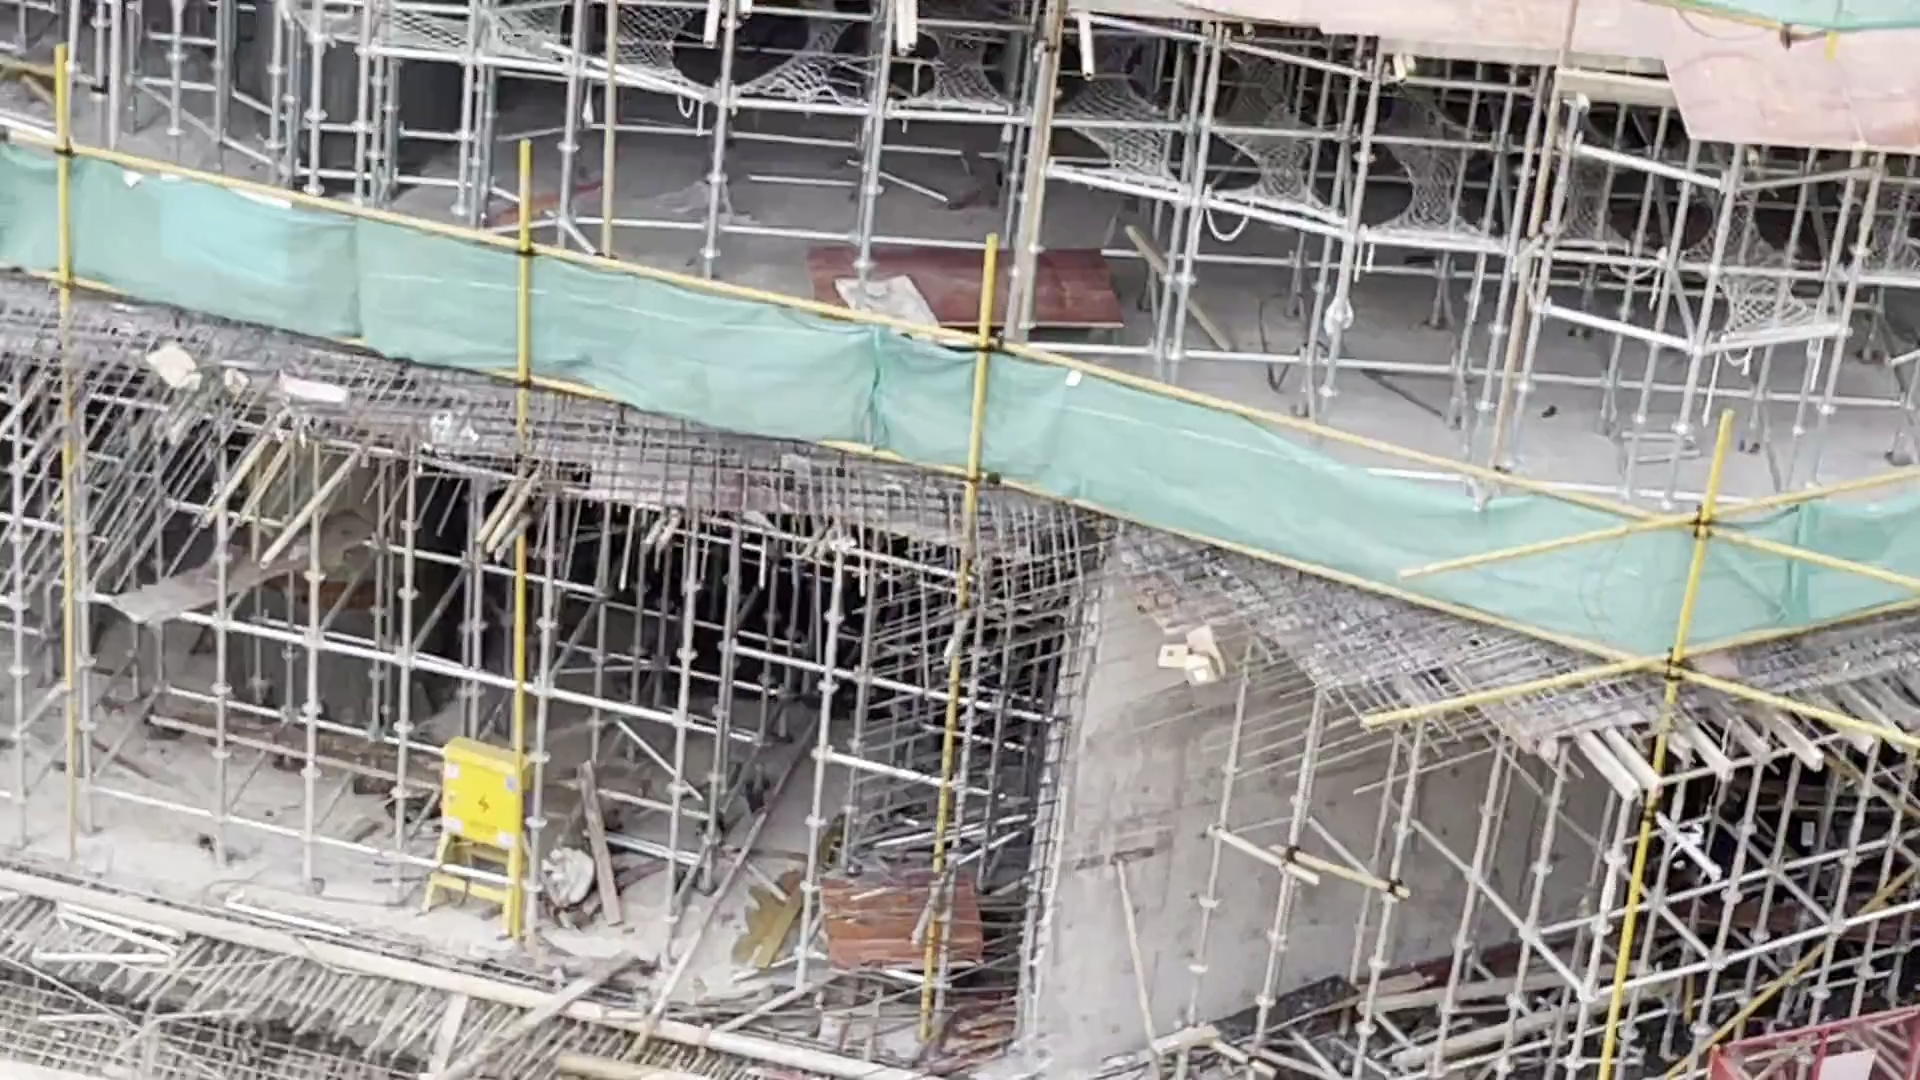ebox: (433, 735, 541, 893)
